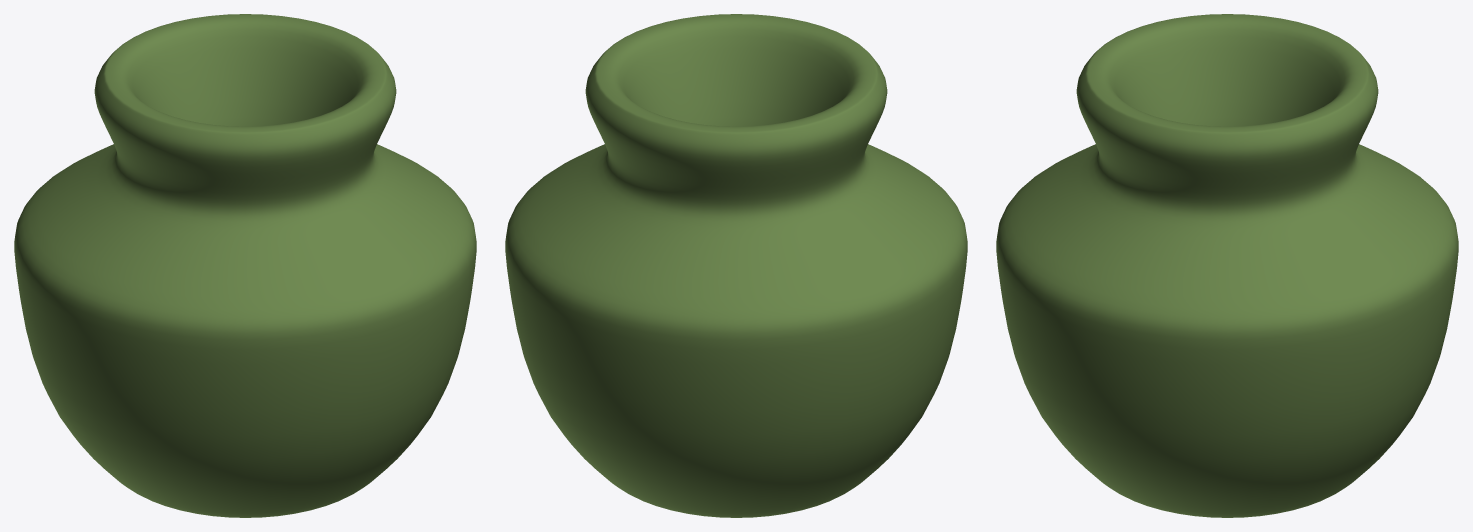
File: inkwell.fbx
The picture shows the model from 3 angles, left to right: view 1: azimuth 30°, elevation 25°; view 2: azimuth 150°, elevation 25°; view 3: azimuth 270°, elevation 25°; orthographic projection.
Visible parts, largest first — view 1: Circle.018; view 2: Circle.018; view 3: Circle.018.
Boxes of the visible parts, x1,y1,x2,y2 form: Circle.018: (14, 14, 476, 517); Circle.018: (505, 14, 967, 517); Circle.018: (996, 14, 1458, 517).
Size of the model in its own units: 43.66 by 41.35 by 43.66.
